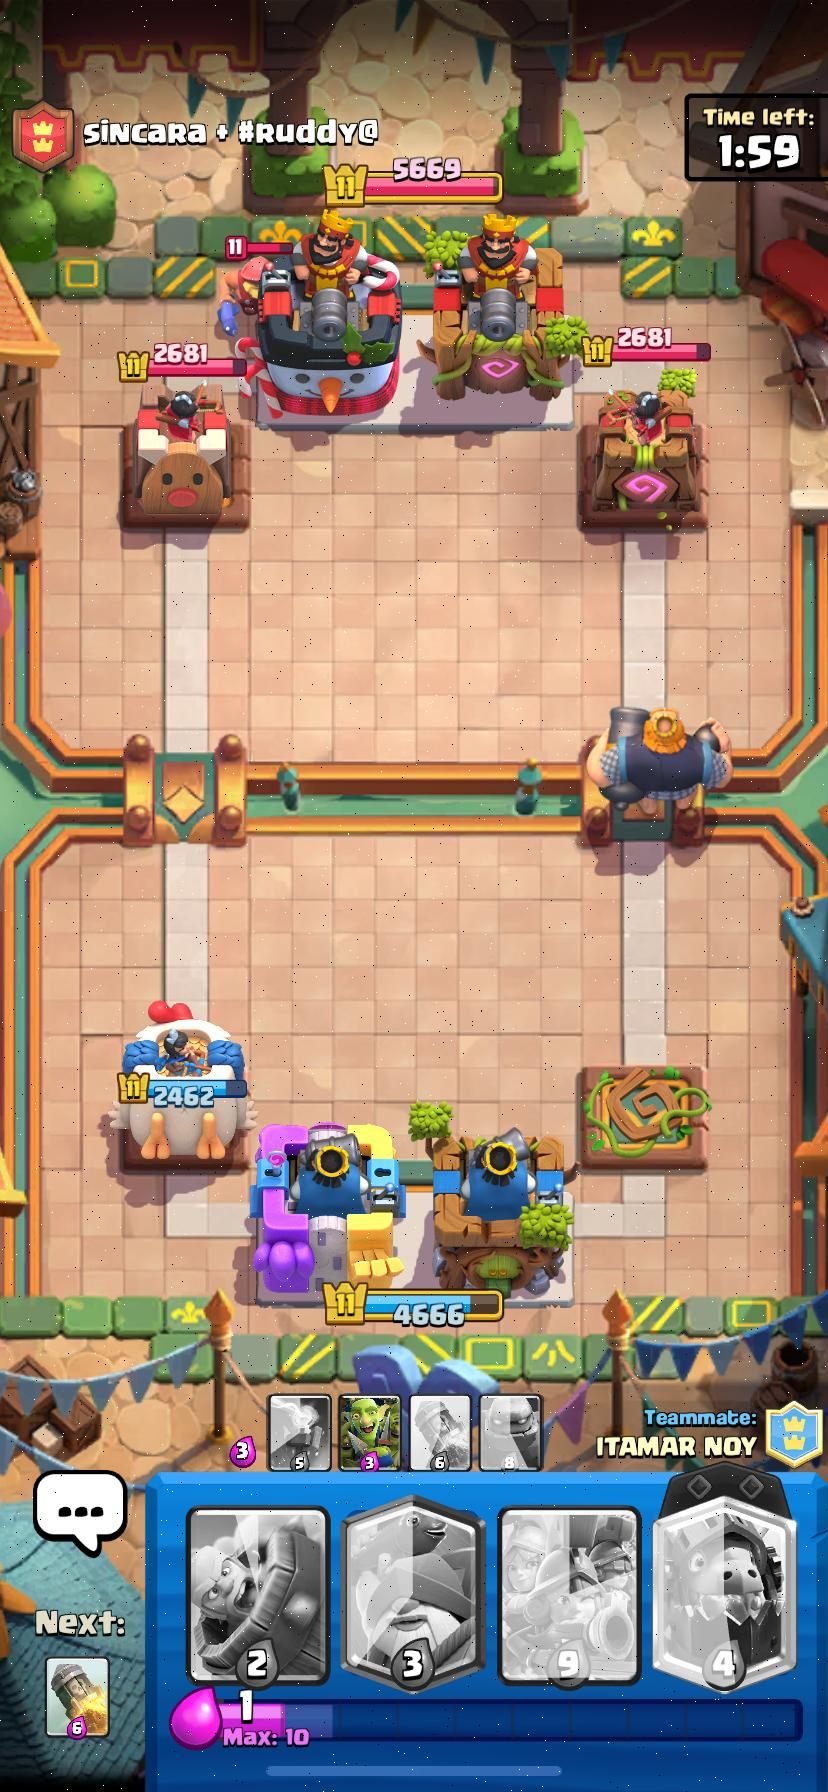EFisherman: (218, 254, 270, 335)
EKingTower: (236, 209, 401, 424), (417, 216, 562, 400)
EnemyPrincessTower: (124, 383, 249, 527), (579, 390, 706, 529)
ORoyalG: (589, 709, 731, 810)
OwnKingTower: (250, 1123, 405, 1301), (433, 1128, 572, 1293)
OwnPrincessTower: (110, 1002, 255, 1160)
TowerDown: (579, 1065, 709, 1169)
